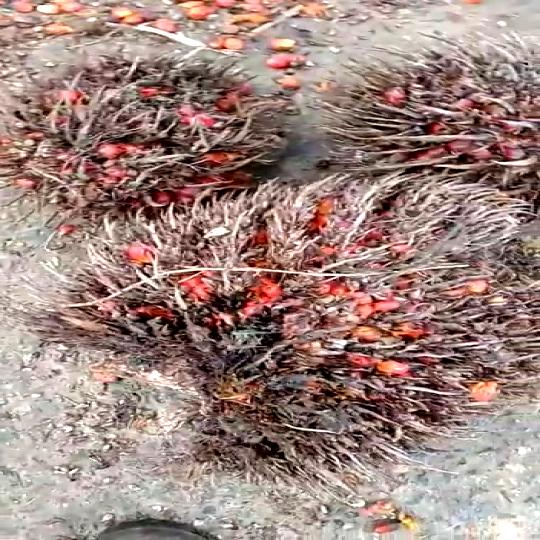terlalu masak: (48, 188, 540, 478), (0, 58, 269, 204), (297, 61, 540, 189)
